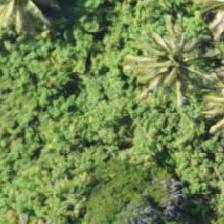coconut_tree: (138, 18, 223, 108)
